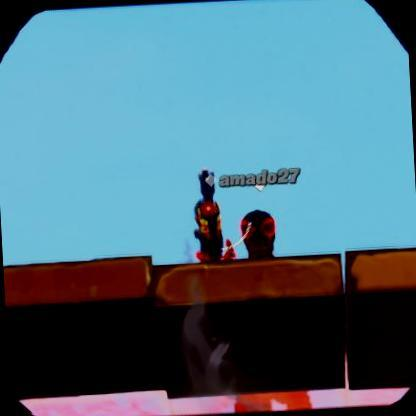person: (218, 200, 286, 274)
